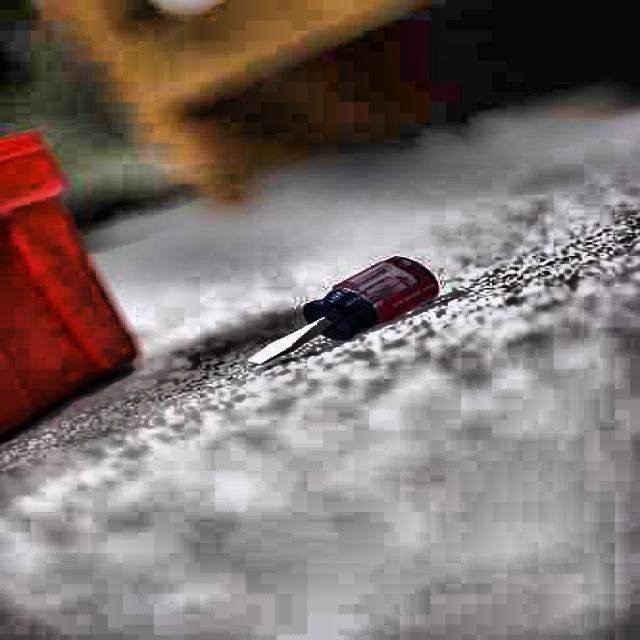screwdriver: (245, 255, 438, 369)
